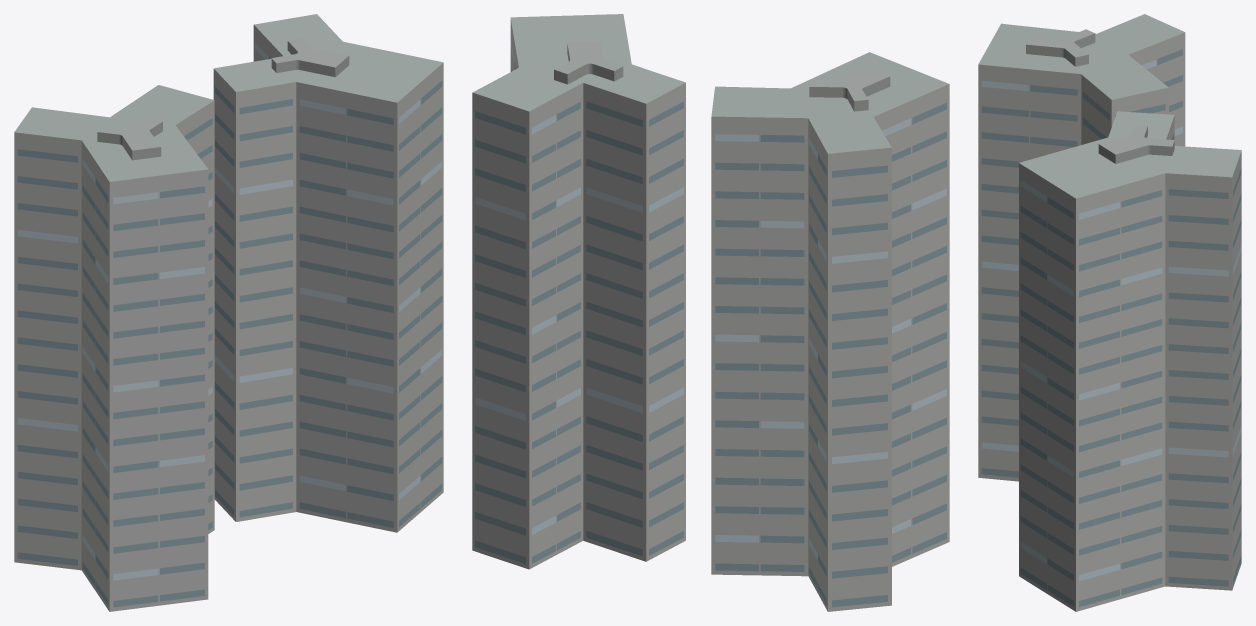
Rendered from apt-a10088102.glb.
The picture shows the model from 3 angles, left to right: view 1: azimuth 30°, elevation 25°; view 2: azimuth 150°, elevation 25°; view 3: azimuth 270°, elevation 25°; orthographic projection. The views are drawn at different scales.
Parts seen in each view (by area): view 1: apt-a10088102; view 2: apt-a10088102; view 3: apt-a10088102.
Part boxes in pixels (x1=…): apt-a10088102: x1=14, y1=14, x2=443, y2=611; apt-a10088102: x1=472, y1=14, x2=949, y2=611; apt-a10088102: x1=978, y1=14, x2=1241, y2=611.
Size of the model in its own units: 101 by 108 by 61.01.
